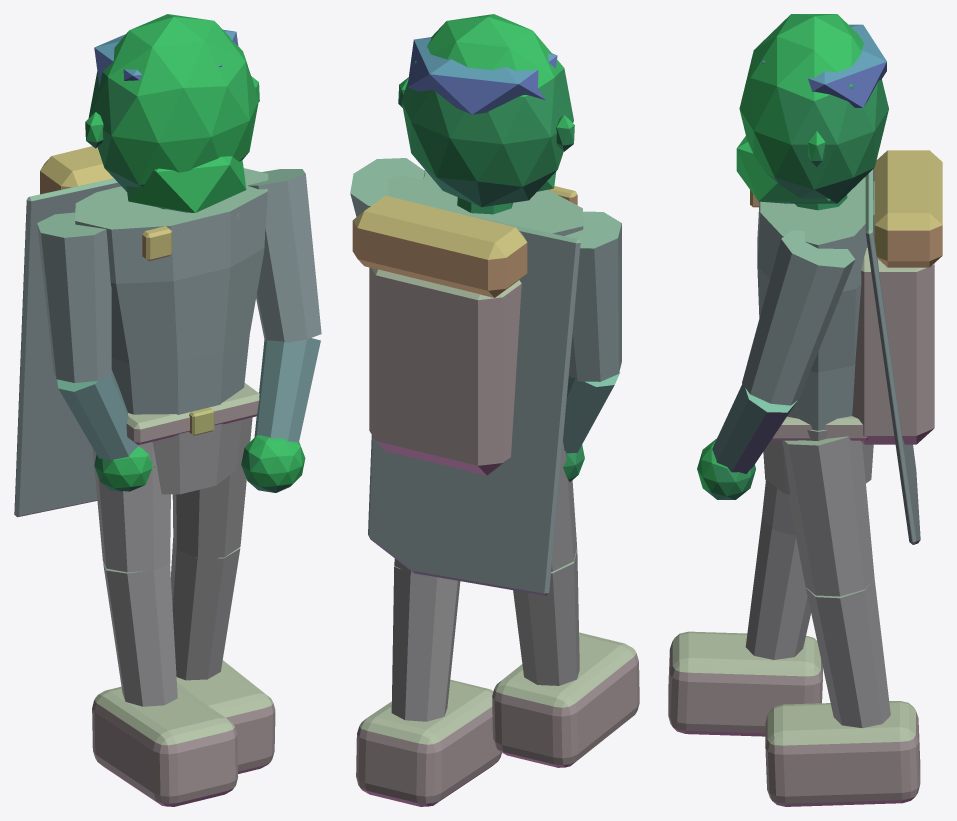
Rendered from npc_refugee_up_r_v01.glb.
3 views of the same model, side by side, from view 1: azimuth 30°, elevation 25°; view 2: azimuth 150°, elevation 25°; view 3: azimuth 270°, elevation 25° (orthographic).
Parts seen in each view (by area): view 1: GEO_npc_refugee_up_r_v01; view 2: GEO_npc_refugee_up_r_v01; view 3: GEO_npc_refugee_up_r_v01.
Boxes of the visible parts, box(x1,y1,x2,y2) form: GEO_npc_refugee_up_r_v01: box(14, 14, 321, 806); GEO_npc_refugee_up_r_v01: box(350, 14, 639, 806); GEO_npc_refugee_up_r_v01: box(668, 14, 942, 806).
Size of the model in its own units: 0.7519 by 2.08 by 0.6838.
